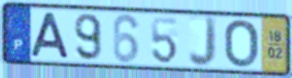5: (150, 15, 180, 65)
6: (111, 12, 143, 65)
9: (73, 13, 104, 62)
A: (29, 11, 72, 60)
J: (187, 15, 219, 70)
O: (223, 18, 260, 69)
